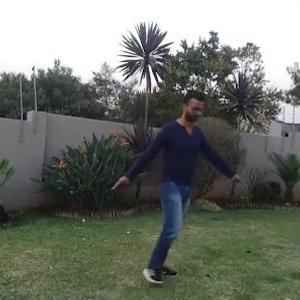land: (89, 76, 255, 289)
